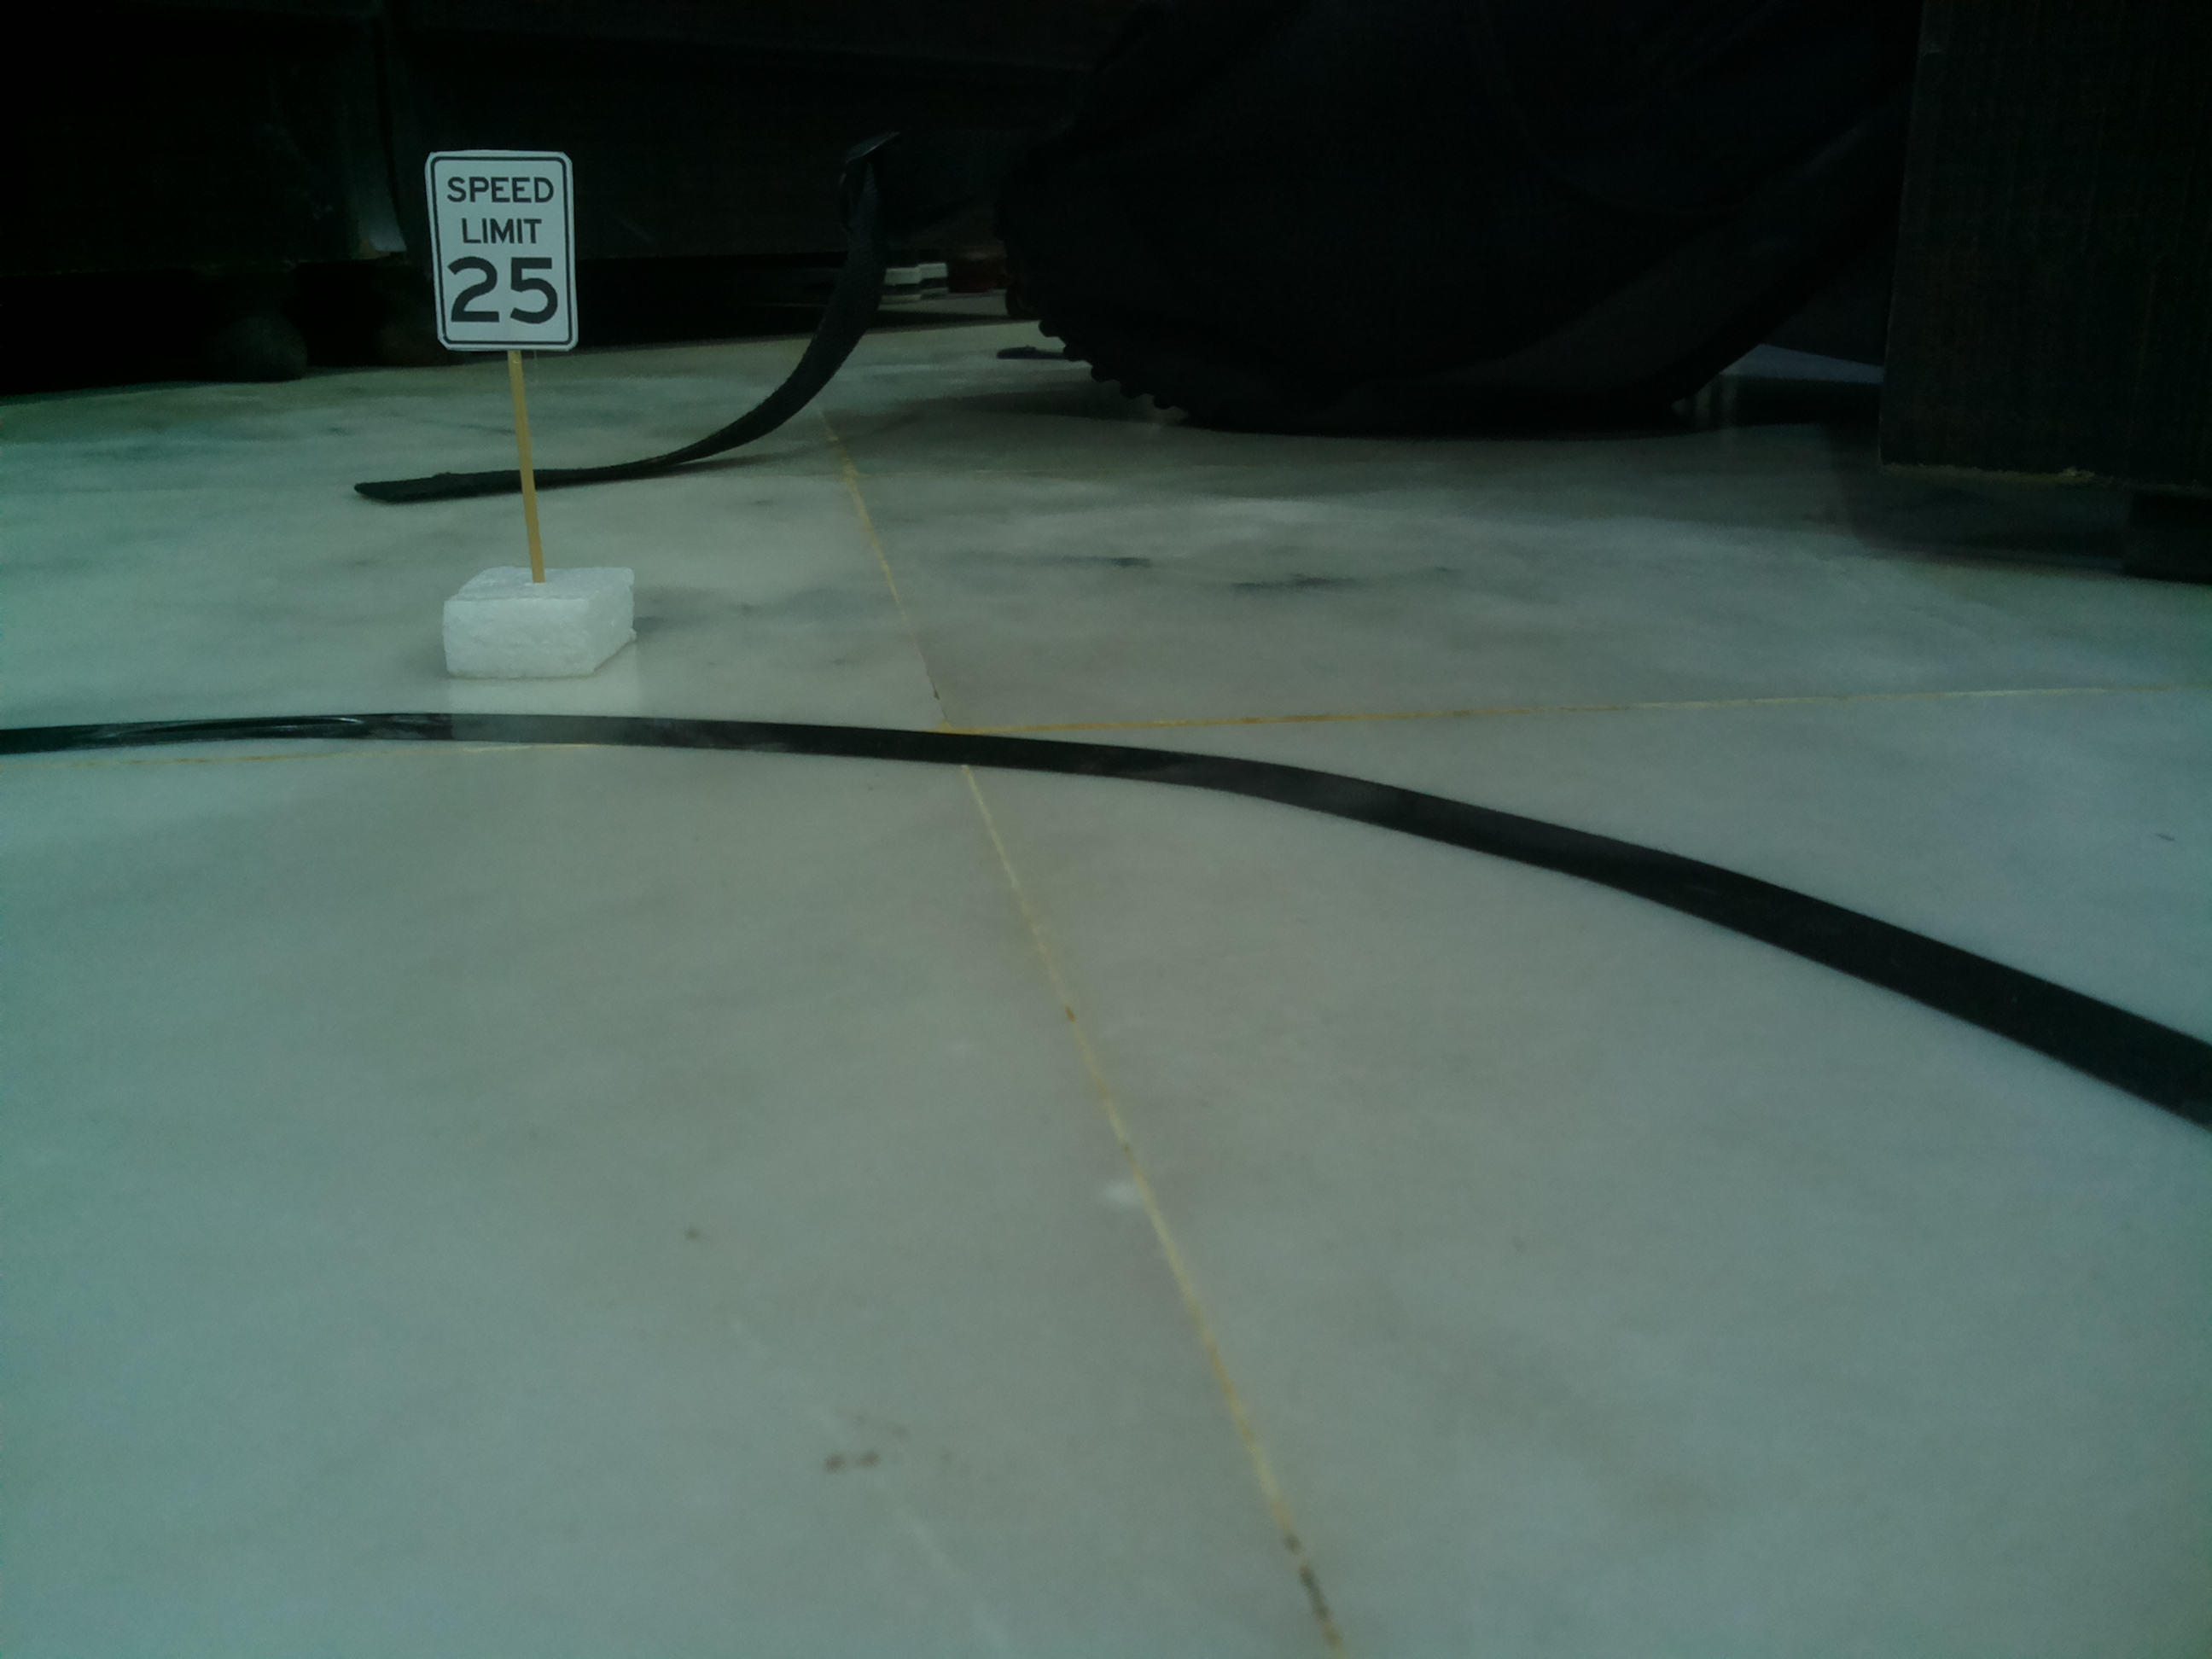Speed limit 25: (423, 148, 590, 361)
